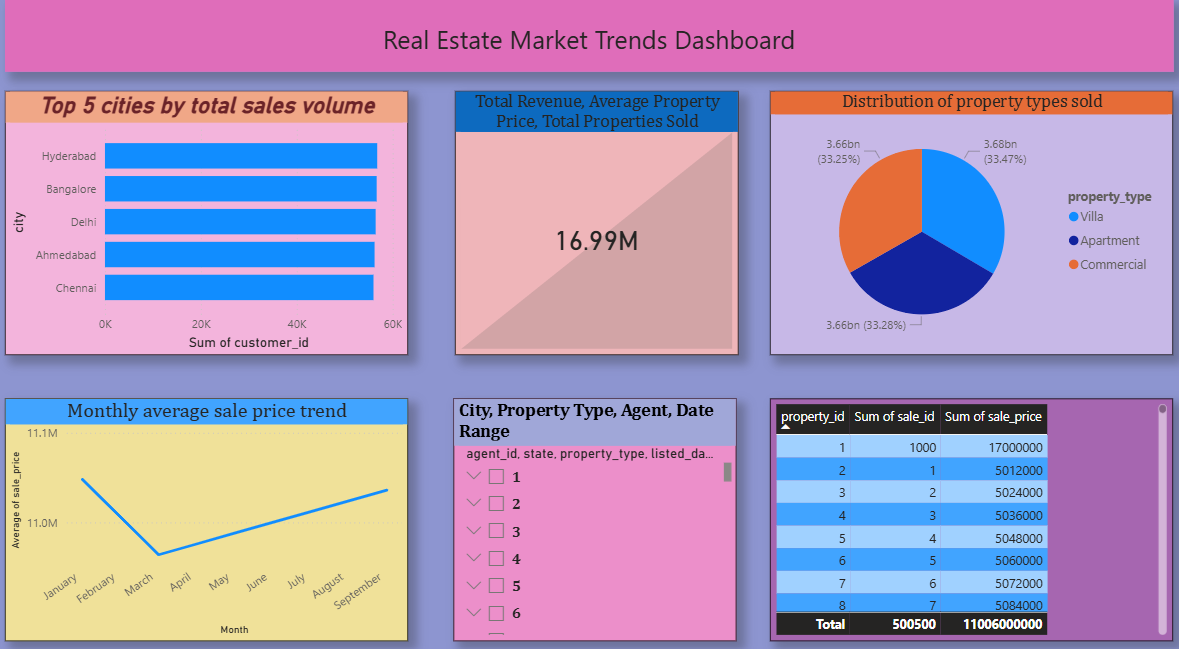

This screenshot's page, from the dashboard's own definition file:
{"tool":"powerbi","page":{"name":"Real Estate Market Trends Dashboard","canvas":[1280,720],"ordinal":0},"visuals":[{"type":"barChart","title":"Top 5 cities by total sales volume","fields":{"Category":["public customers.city"],"Y":["Sum(public customers.customer_id)"]},"box":[13.2,115.3,427.1,279.7],"z":0},{"type":"textbox","box":[12.7,17.5,1239.1,76.3],"z":1000},{"type":"lineChart","title":"Monthly average sale price trend","fields":{"Category":["public sales.sale_date.Variation.Date Hierarchy.Month"],"Y":["Avg(public sales.sale_price)"]},"box":[13.2,440.3,427.1,257],"z":2000},{"type":"pieChart","title":"Distribution of property types sold","fields":{"Category":["public properties.property_type"],"Y":["Sum(public sales.sale_price)"]},"box":[823.9,115.3,427.1,279.7],"z":3000},{"type":"tableEx","fields":{"Values":["public sales.property_id","Sum(public sales.sale_id)","Sum(public sales.sale_price)"]},"box":[823.9,440.3,427.1,257],"z":4000},{"type":"kpi","title":"Total Revenue, Average Property Price, Total Properties Sold","fields":{"Indicator":["Avg(public sales.sale_price)"],"TrendLine":["public sales.property_id"]},"box":[489.5,115.3,300.5,279.7],"z":5000},{"type":"slicer","title":"City, Property Type, Agent, Date Range ","fields":{"Values":["public properties.agent_id","public properties.state","public properties.property_type","public properties.listed_date"]},"box":[489,440,300,257],"z":6000}]}

Visuals, with their boxes in screenshot pixels (x1, y1, x2, y2), scaled from the page's 1280x720 canvas onto the 1179x649 screenshot:
"Top 5 cities by total sales volume" barChart: 12, 104, 406, 356
textbox: 12, 16, 1153, 85
"Monthly average sale price trend" lineChart: 12, 397, 406, 629
"Distribution of property types sold" pieChart: 759, 104, 1152, 356
tableEx - public sales.property_id x Sum(public sales.sale_id): 759, 397, 1152, 629
"Total Revenue, Average Property Price, Total Properties Sold" kpi: 451, 104, 728, 356
"City, Property Type, Agent, Date Range " slicer: 450, 397, 727, 628
